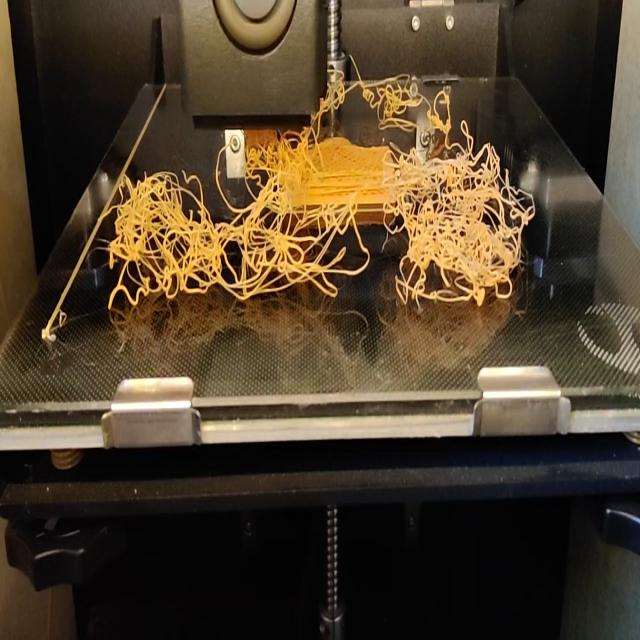spaghetti: (92, 127, 542, 314), (326, 51, 454, 126)
